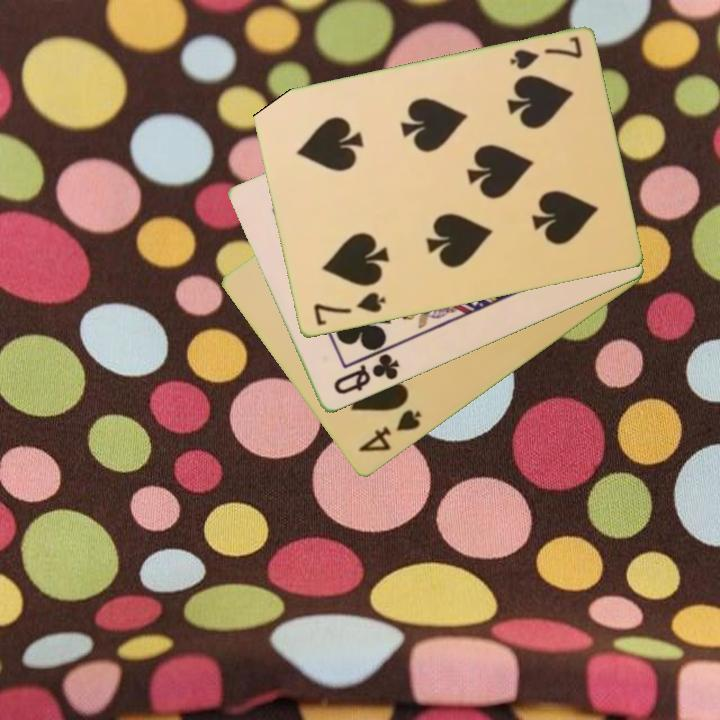4s: (354, 406, 425, 456)
7s: (310, 289, 389, 329), (506, 33, 585, 73)
Qc: (329, 350, 403, 398)
